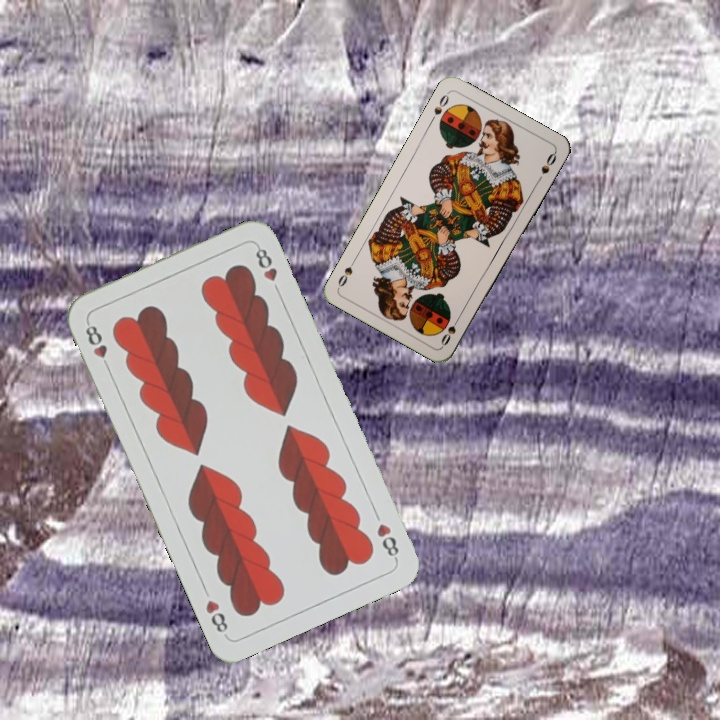H8: (81, 317, 113, 373), (372, 519, 402, 563)
SO: (437, 311, 464, 348), (426, 90, 452, 125)
